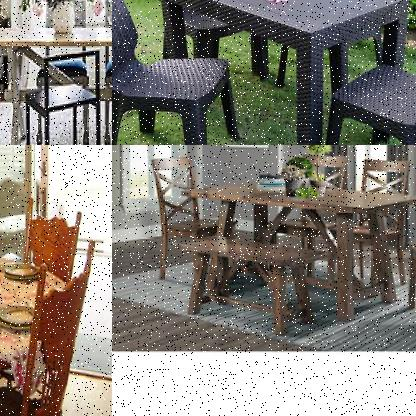table: (155, 0, 414, 144), (175, 175, 415, 328), (0, 22, 111, 144), (0, 237, 72, 415)
